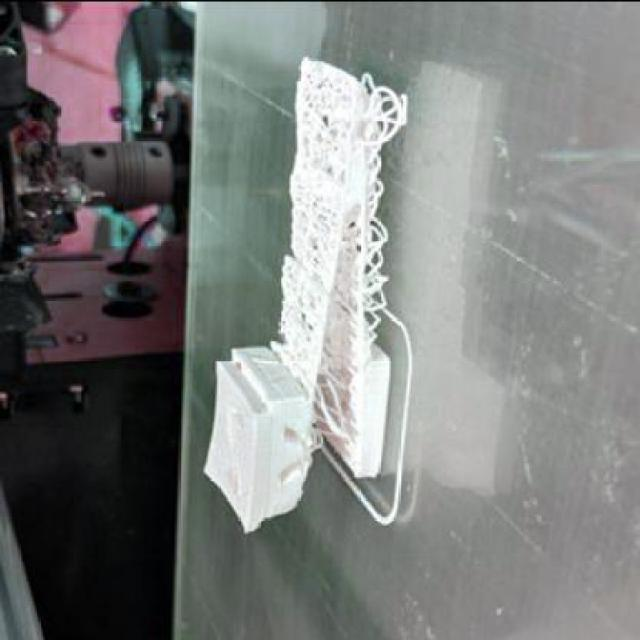spaghetti: (268, 54, 411, 443)
